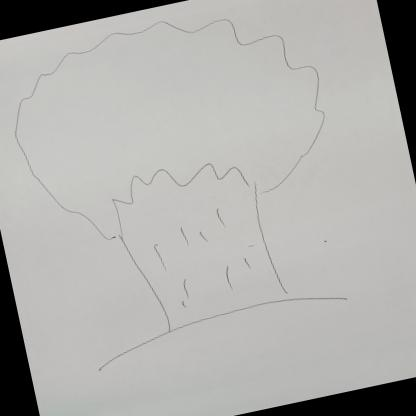branch_sharp: (93, 139, 261, 221)
crown_cloud: (0, 0, 341, 252)
root_none: (138, 282, 322, 362)
trunk_bark: (121, 212, 278, 304)
